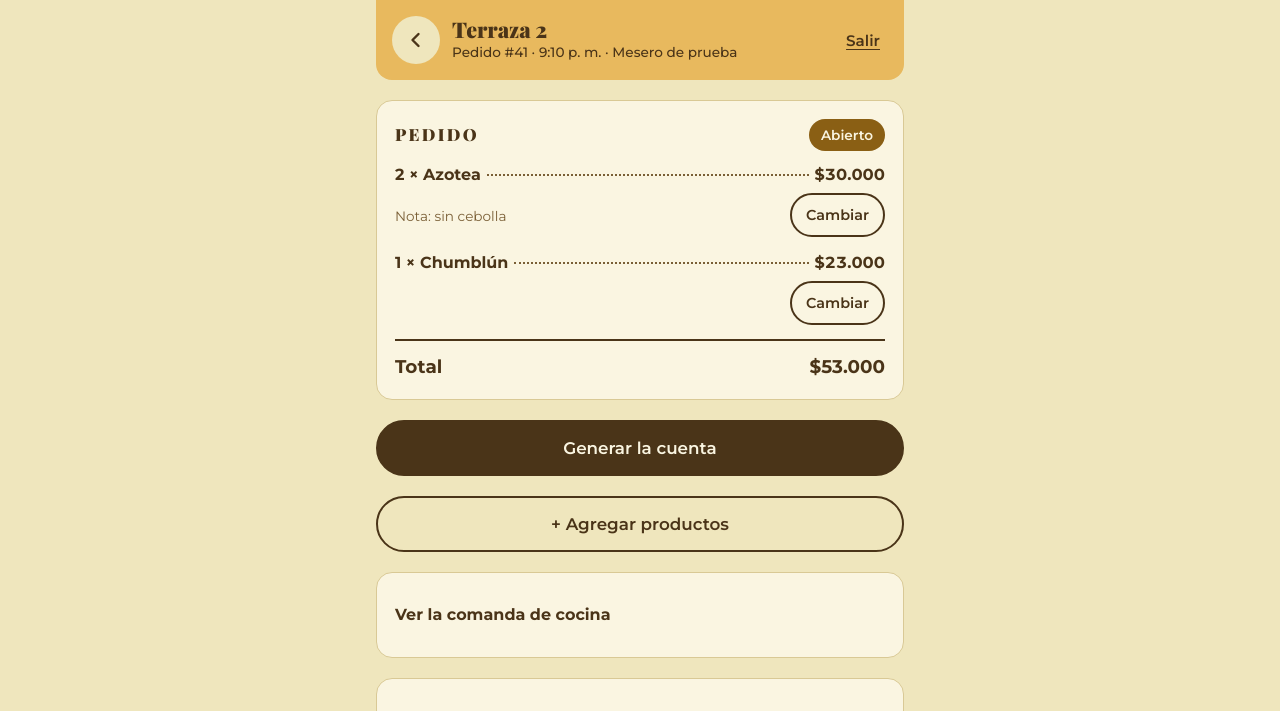
Test: Modificar un pedido abierto (HU05) › bajar la cantidad pide el motivo y el total se recalcula al instante
What coordinates should you click on to do the following:
click the button "Cambiar" below "$30.000"
I would click on:
 (837, 215)
Its box is [790,193,885,237].
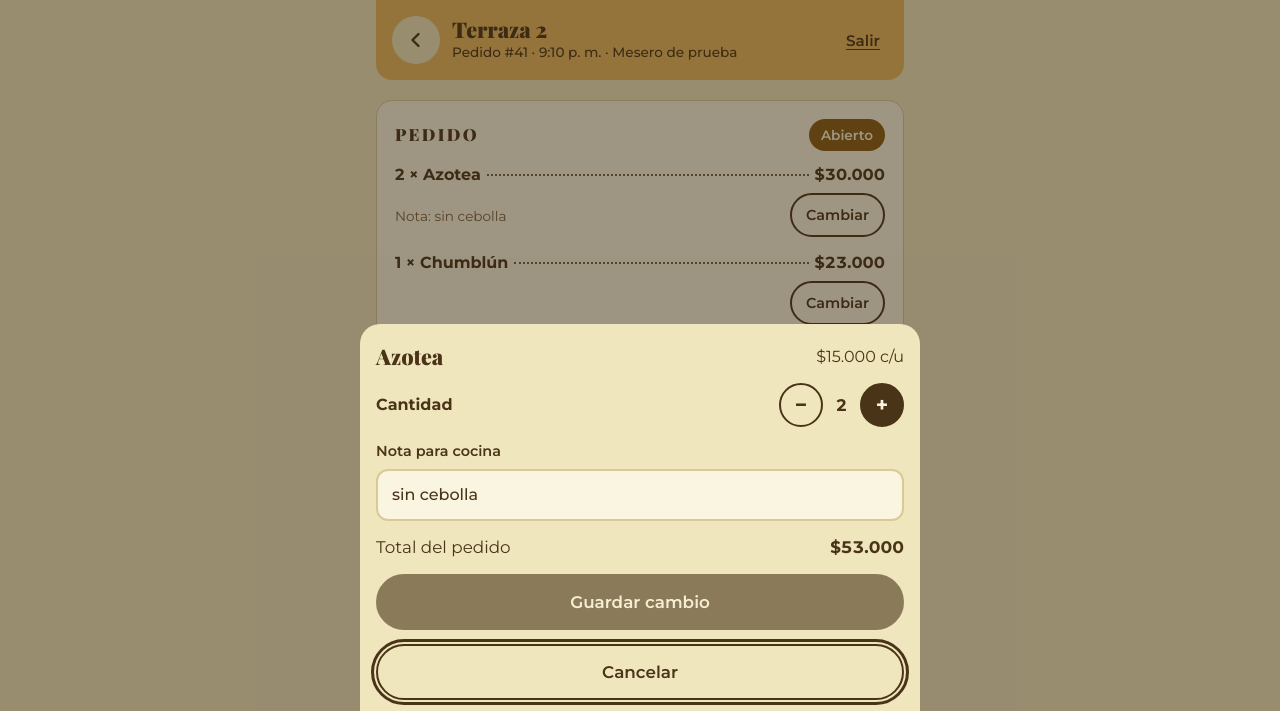
Expected: the button "Guardar cambio" is disabled, [376,574,904,630]
What coordinates should you click on to do the following:
click the button named "Quitar uno"
I would click on:
 (801, 405)
Its box is [779,383,823,427].
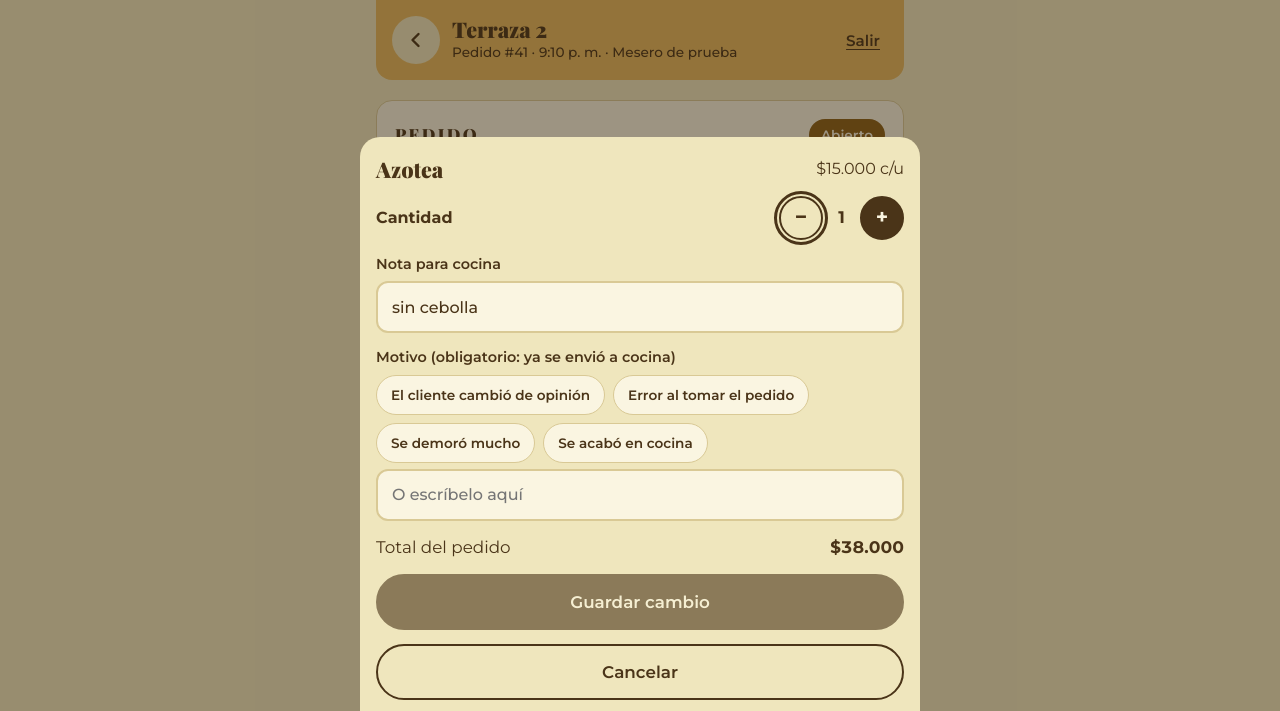
Expected: the button "Guardar cambio" is disabled, [376,574,904,630]
Expected: the text "$38.000" is shown, [830,535,904,560]
Expected: the field labelled "Motivo (obligatorio: ya se envió a cocina)" is shown, [376,469,904,521]
What coordinates should you click on to do the following:
click the button "Se demoró mucho"
I would click on:
 (456, 443)
Its box is [376,423,535,463].
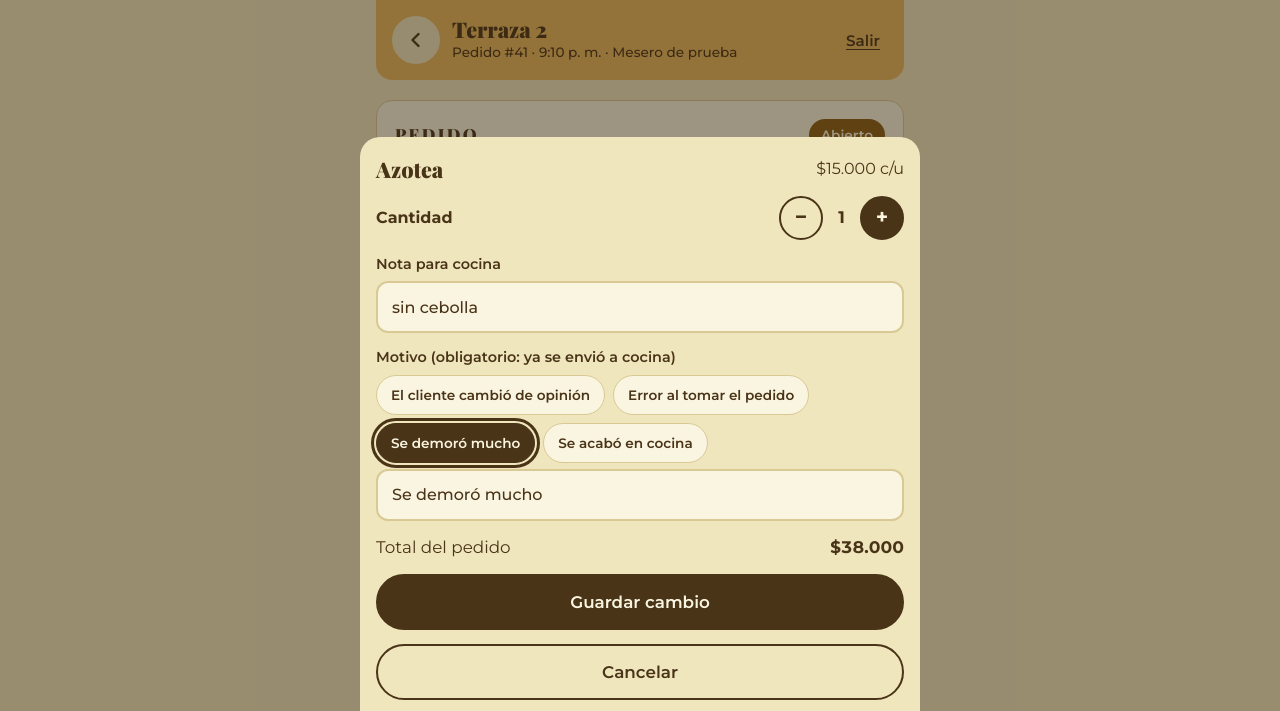
Expected: the button "Guardar cambio" is enabled
What coordinates should you click on to do the following:
click the button "Guardar cambio"
I would click on:
 (640, 602)
Its box is [376,574,904,630].
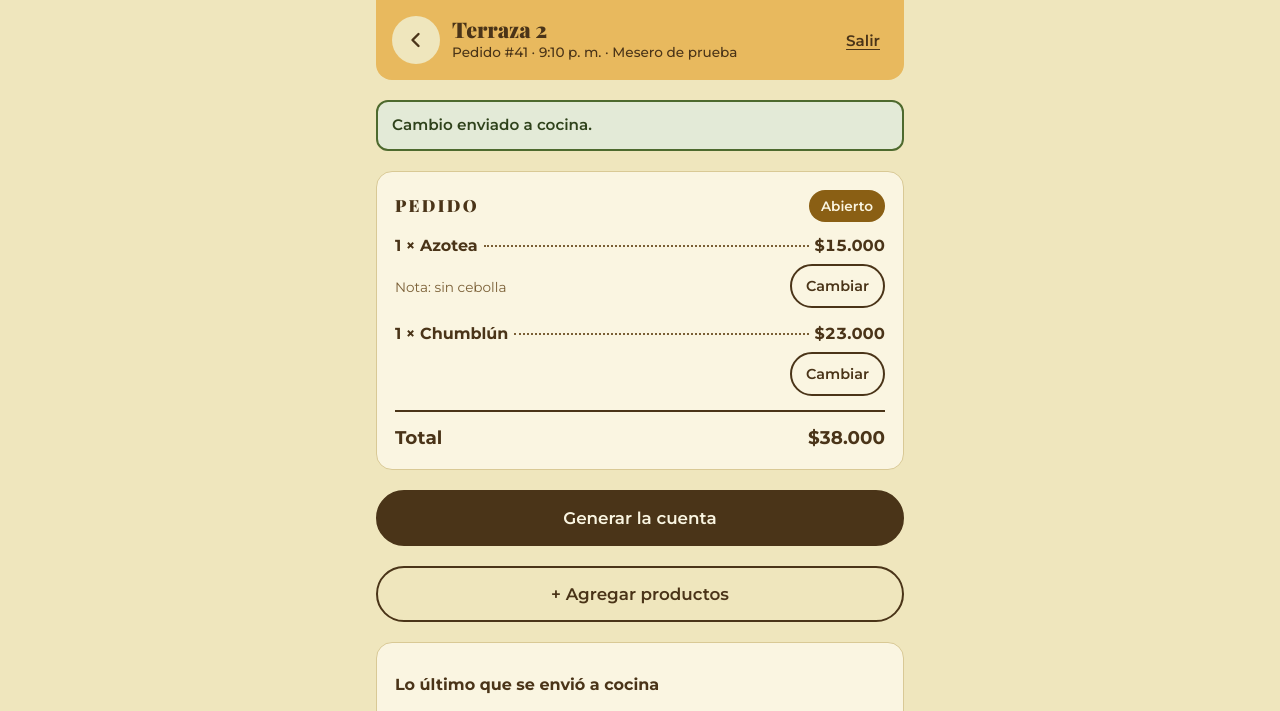
Expected: the message reads "Cambio enviado a cocina.", [392,115,592,134]
Expected: the text "$38.000" is shown, [808,424,885,451]
